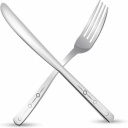Fork: (39, 1, 114, 101)
